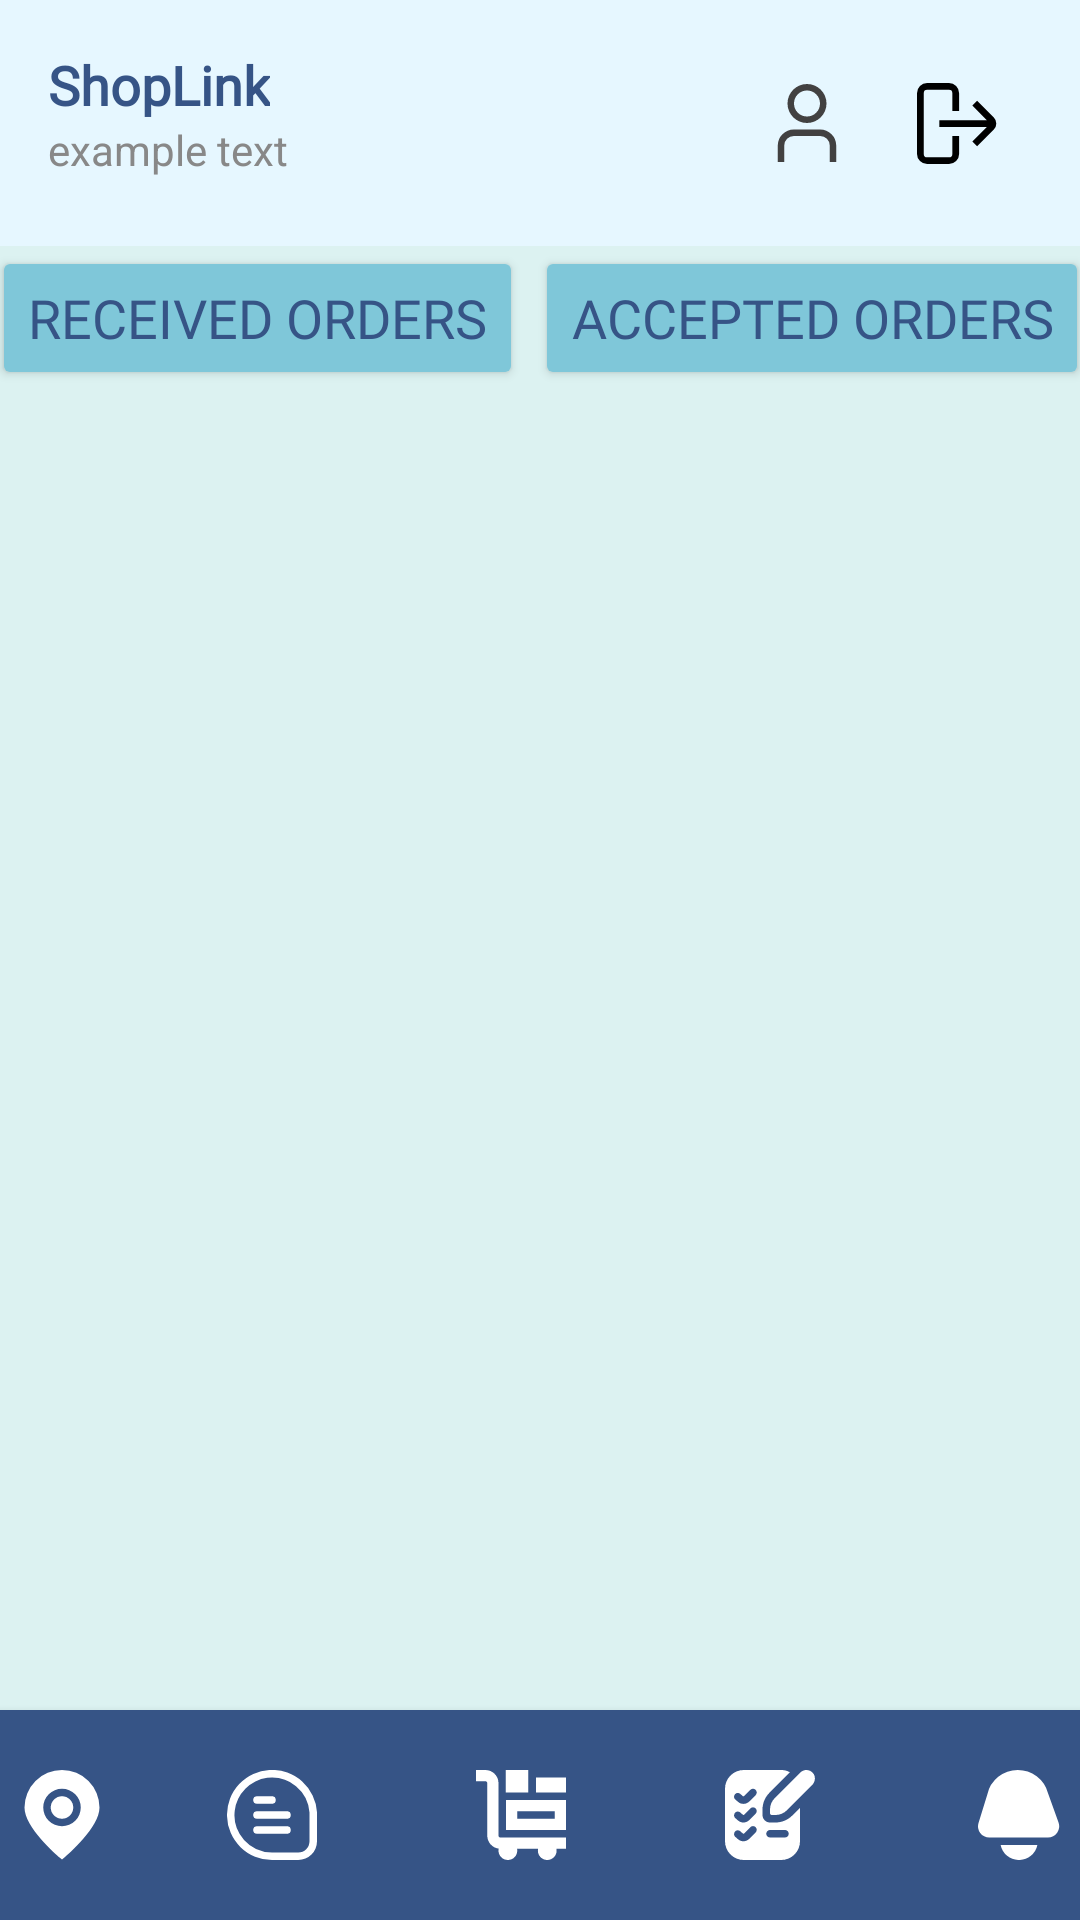

Where icons sit on this 1080×1920 app screen, as (x1, y1, x2, y2):
Image button to main order making menu: (476, 1770, 566, 1860)
Image button to Message: (227, 1770, 317, 1860)
usericon: (777, 84, 837, 162)
